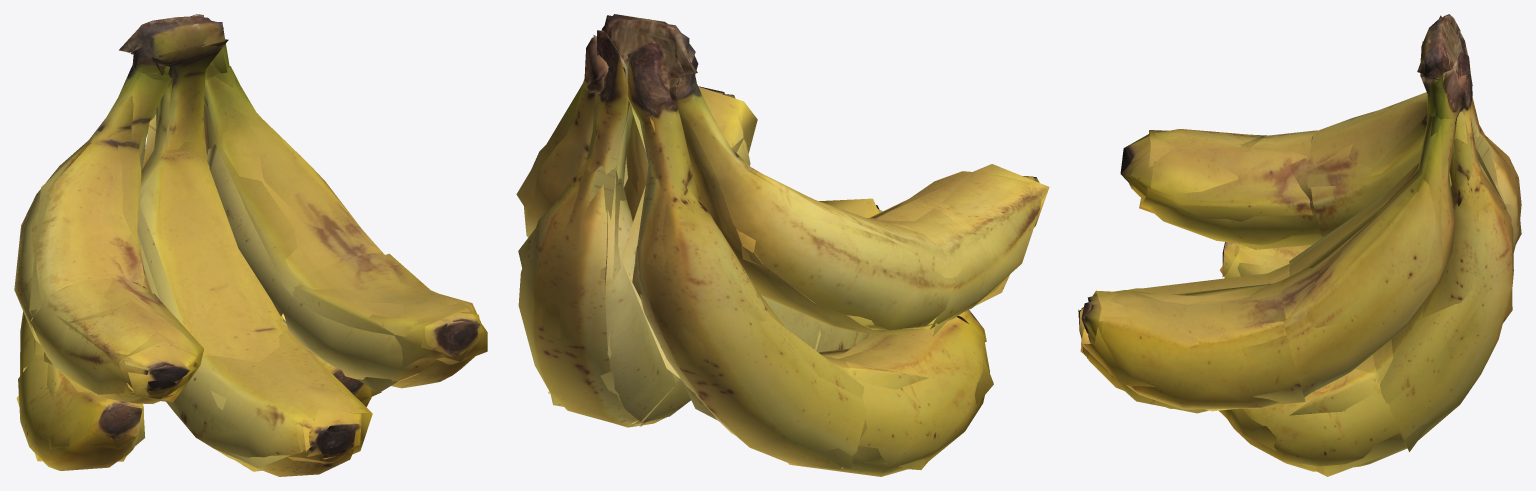
Rendered from bananas.glb.
3 renders of one model, left to right at view 1: azimuth 30°, elevation 25°; view 2: azimuth 150°, elevation 25°; view 3: azimuth 270°, elevation 25°, orthographic. The views are drawn at different scales.
Visible parts, largest first — view 1: bananas-fine, bananas-coarse; view 2: bananas-fine, bananas-coarse; view 3: bananas-fine, bananas-coarse.
Boxes of the visible parts, x1,y1,x2,y2 form: bananas-fine: (14, 14, 482, 476); bananas-coarse: (16, 16, 487, 471); bananas-fine: (518, 14, 1041, 476); bananas-coarse: (516, 15, 1049, 469); bananas-fine: (1078, 14, 1521, 471); bananas-coarse: (1078, 15, 1521, 476).
Size of the model in its own units: 1 by 1 by 1.
Materials: 1 (1 with a texture image).
